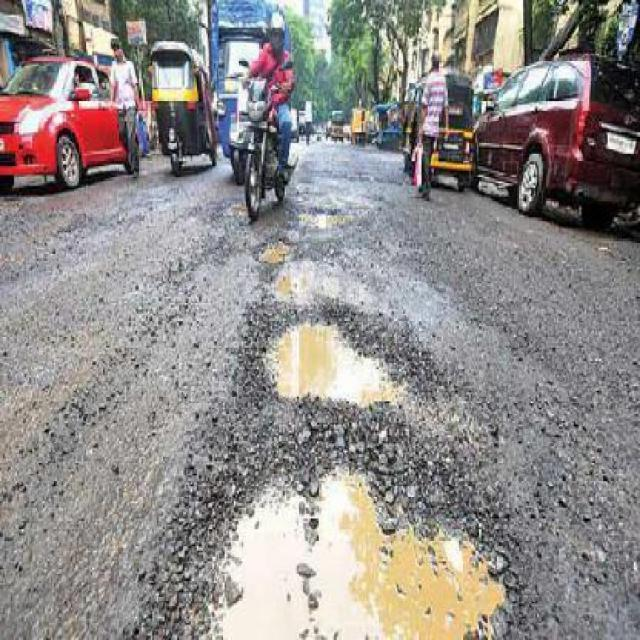pothole: (152, 426, 534, 634), (242, 301, 422, 401), (271, 258, 316, 300), (296, 202, 347, 233), (256, 228, 296, 267)
